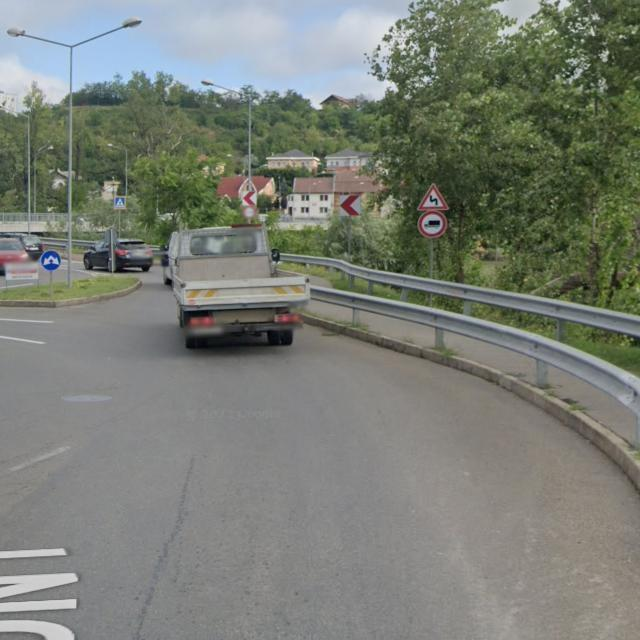info_crosswalk: (115, 197, 126, 209)
